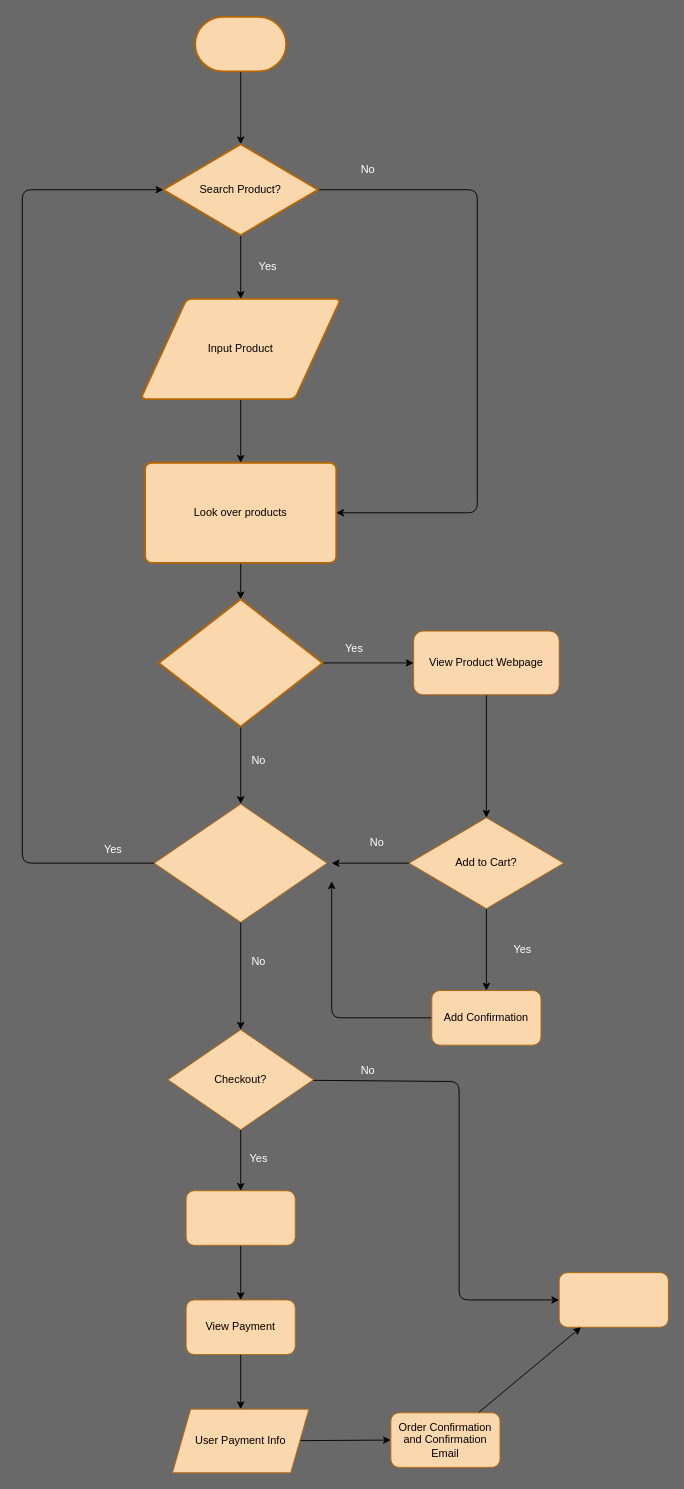
Image size: 684x1489. Some labels were removed from this diagram. The box of each missing label's shape, as (x1, y1, x2, y2) in pixels:
Continue Shopping?: (153, 803, 327, 922)
Leave Website: (558, 1272, 668, 1327)
Start: (194, 15, 287, 72)
View Cart: (185, 1190, 295, 1245)
View Product?: (157, 598, 323, 727)
